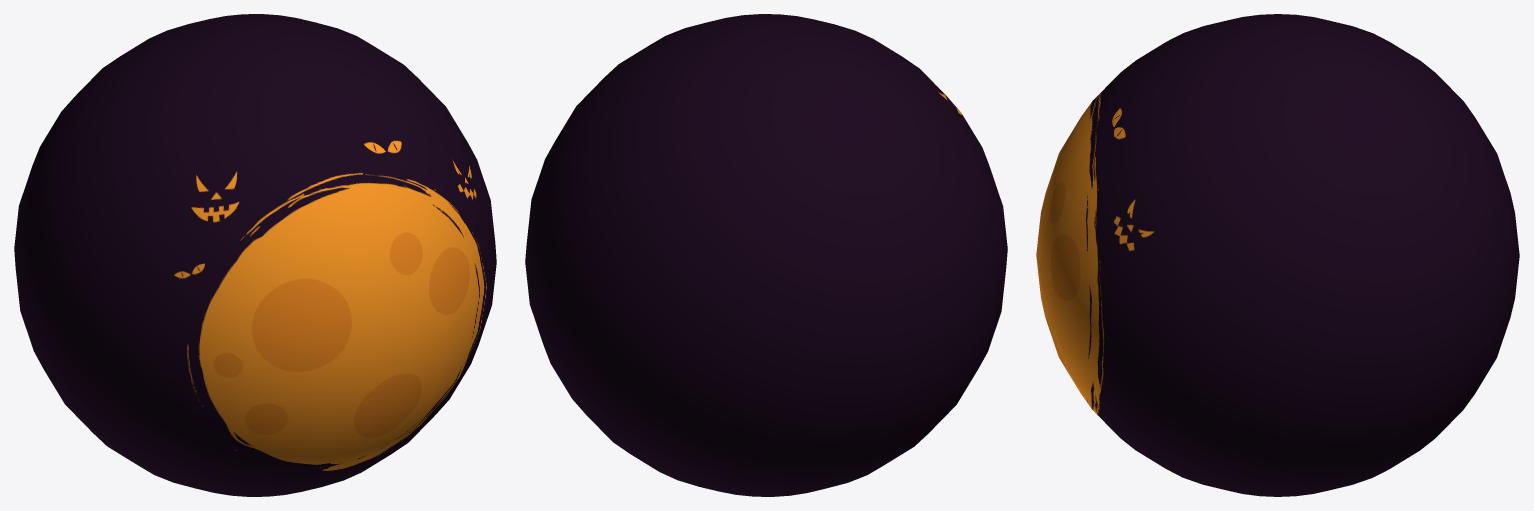
The model's file is halloween_cat_and_pumpkin.gltf.
3 renders of one model, left to right at view 1: azimuth 30°, elevation 25°; view 2: azimuth 150°, elevation 25°; view 3: azimuth 270°, elevation 25°, orthographic.
Parts seen in each view (by area): view 1: Sphere; view 2: Sphere; view 3: Sphere.
Part boxes in pixels (x1,y1,x2,y2): Sphere: (14, 14, 496, 496); Sphere: (525, 14, 1007, 496); Sphere: (1036, 14, 1519, 496).
Bounding box in the file's own units: 34.59 × 34.59 × 34.59.
Materials: 3 (3 with a texture image).
